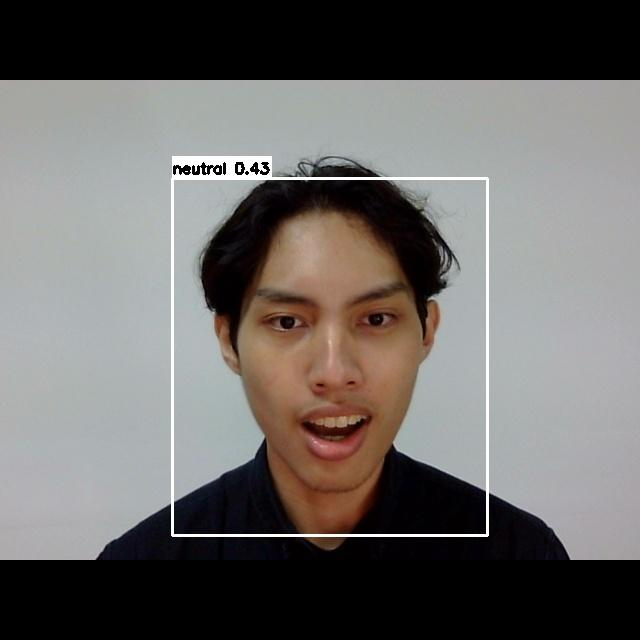Surprised: (236, 259, 441, 481)
